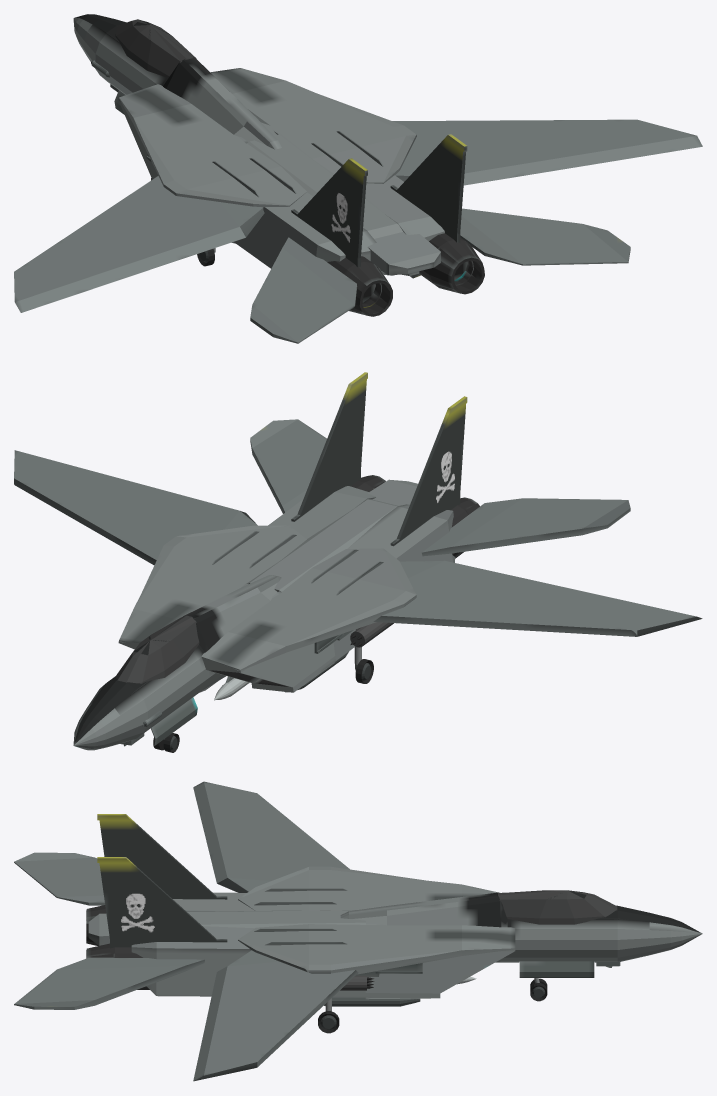
The model's file is jet_f14.glb.
3 renders of one model, top to bottom at view 1: azimuth 30°, elevation 25°; view 2: azimuth 150°, elevation 25°; view 3: azimuth 270°, elevation 25°, orthographic. The views are drawn at different scales.
Visible parts, largest first — view 1: cuboid_12, cuboid_64, cuboid_6, cuboid_7, cylinder_0, cuboid_15, cuboid_14, cuboid_23, cuboid_21, cuboid_20, cuboid_4, sphere_17 (+3 smaller); view 2: cuboid_12, cuboid_6, cuboid_64, cuboid_7, cylinder_0, cuboid_14, cuboid_23, cuboid_15, cuboid_21, cuboid_20, cuboid_4, cuboid_1 (+3 smaller); view 3: cuboid_64, cylinder_0, cuboid_7, cuboid_12, cuboid_6, cuboid_15, cuboid_21, cuboid_3, cuboid_20, cuboid_2, cuboid_14, sphere_17 (+6 smaller).
Part boxes in pixels (x1,y1,x2,y2): cuboid_12: (14,176,264,312); cuboid_64: (392,119,702,185); cuboid_6: (119,84,306,207); cuboid_7: (210,68,416,183); cylinder_0: (73,14,394,275); cuboid_15: (460,208,630,265); cuboid_14: (250,237,357,343); cuboid_23: (247,134,440,275); cuboid_21: (390,134,467,242); cuboid_20: (291,158,367,267); cuboid_4: (234,192,376,268); sphere_17: (115,19,196,78); cuboid_12: (373,560,702,636); cuboid_6: (201,548,416,670); cuboid_64: (14,450,257,565); cuboid_7: (119,525,306,643); cylinder_0: (73,575,281,750); cuboid_14: (422,498,630,556); cuboid_23: (247,479,417,591); cuboid_15: (250,419,326,513); cuboid_21: (291,372,367,521); cuboid_20: (390,396,467,546); cuboid_4: (333,504,455,660); cuboid_1: (202,591,335,692); cuboid_64: (193,950,358,1081); cylinder_0: (340,892,702,962); cuboid_7: (238,924,515,974); cuboid_12: (193,781,349,892); cuboid_6: (238,866,498,910); cuboid_15: (14,957,204,1009); cuboid_21: (97,857,227,948); cuboid_3: (131,926,365,997); cuboid_20: (97,814,227,899); cuboid_2: (365,923,515,999); cuboid_14: (14,852,104,905); sphere_17: (497,890,617,924).
Size of the model in its own units: 2.19 by 0.5605 by 2.17.
9 materials, 9 textured.
